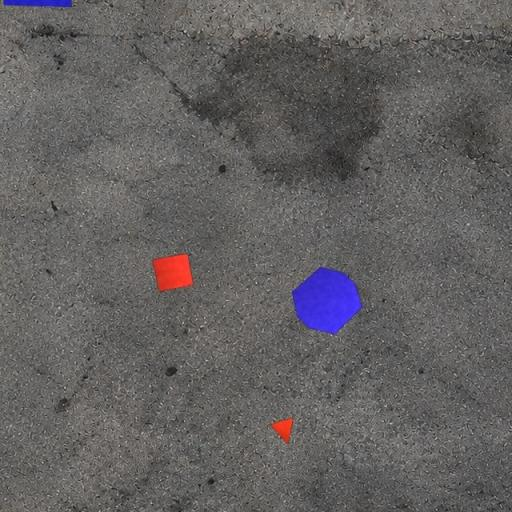RED_SQUARE: (152, 253, 194, 292)
